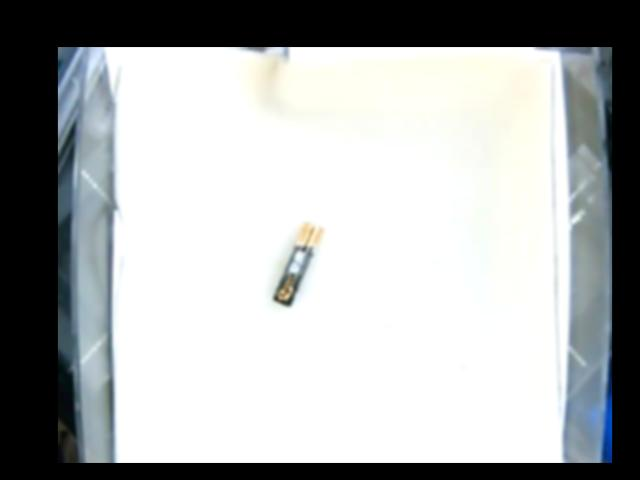Battery: (276, 221, 321, 307)
